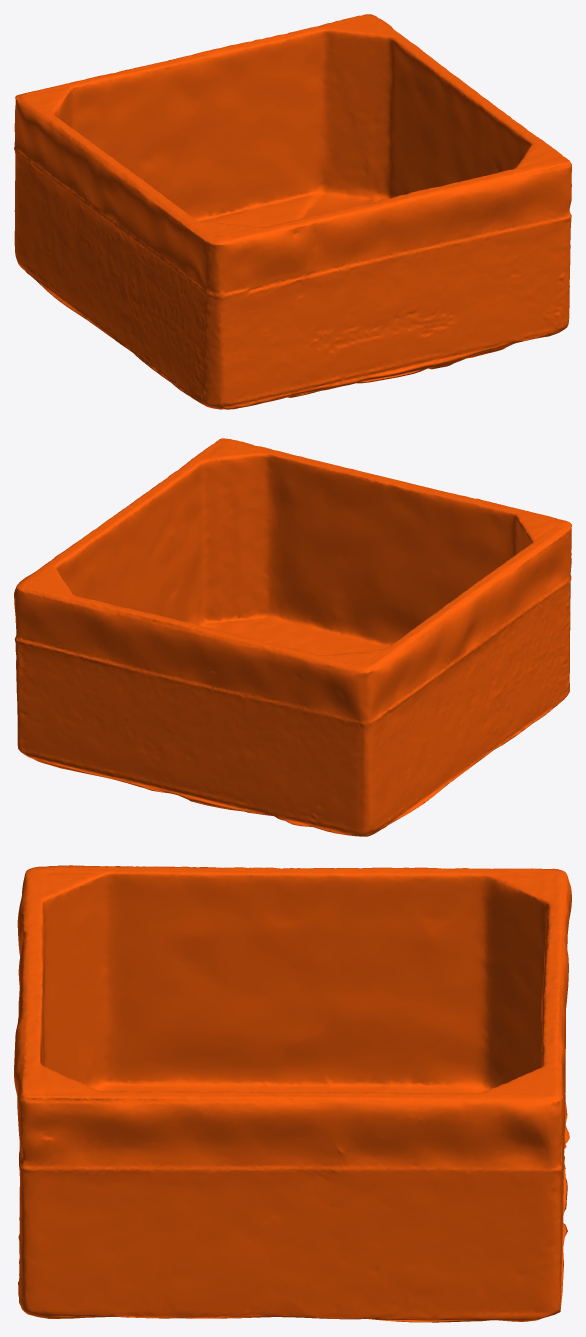
The model's file is black_toothpaste_basket.obj.
3 renders of one model, top to bottom at view 1: azimuth 30°, elevation 25°; view 2: azimuth 150°, elevation 25°; view 3: azimuth 270°, elevation 25°, orthographic. The views are drawn at different scales.
Size of the model in its own units: 0.1308 by 0.062 by 0.1303.
